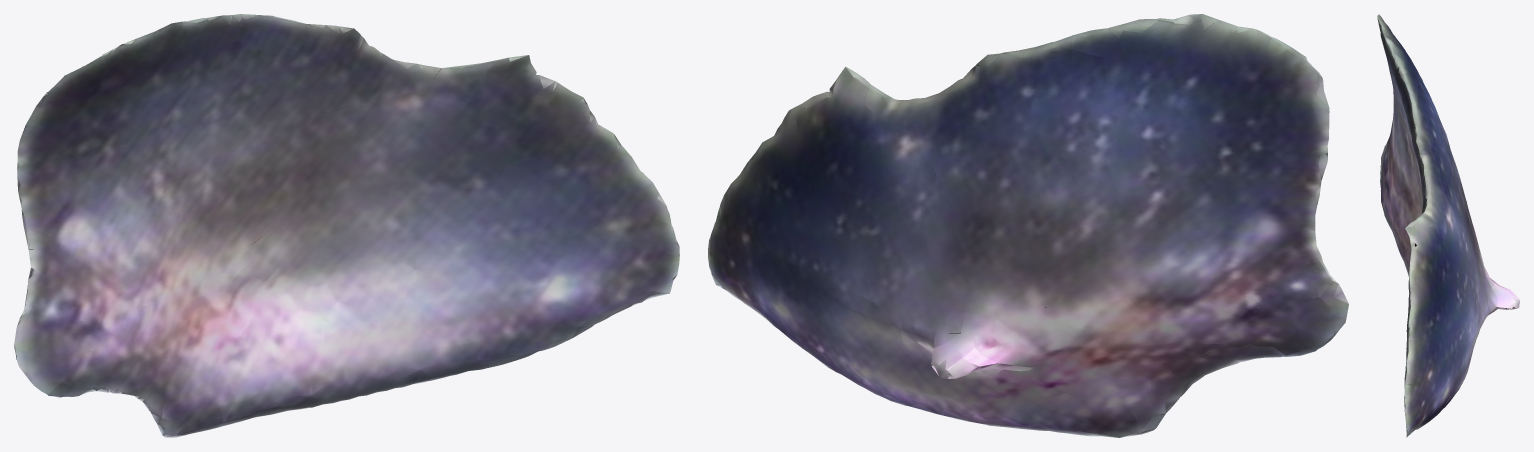
The model's file is SPAR3D_result_20250713_204204.glb.
3 renders of one model, left to right at view 1: azimuth 30°, elevation 25°; view 2: azimuth 150°, elevation 25°; view 3: azimuth 270°, elevation 25°, orthographic. The views are drawn at different scales.
Visible parts, largest first — view 1: world; view 2: world; view 3: world.
Boxes of the visible parts, x1,y1,x2,y2 form: world: (14,14,679,437); world: (708,14,1348,437); world: (1377,14,1519,437).
Bounding box in the file's own units: 0.8269 × 0.5352 × 0.2438.
Materials: 1 (1 with a texture image).
